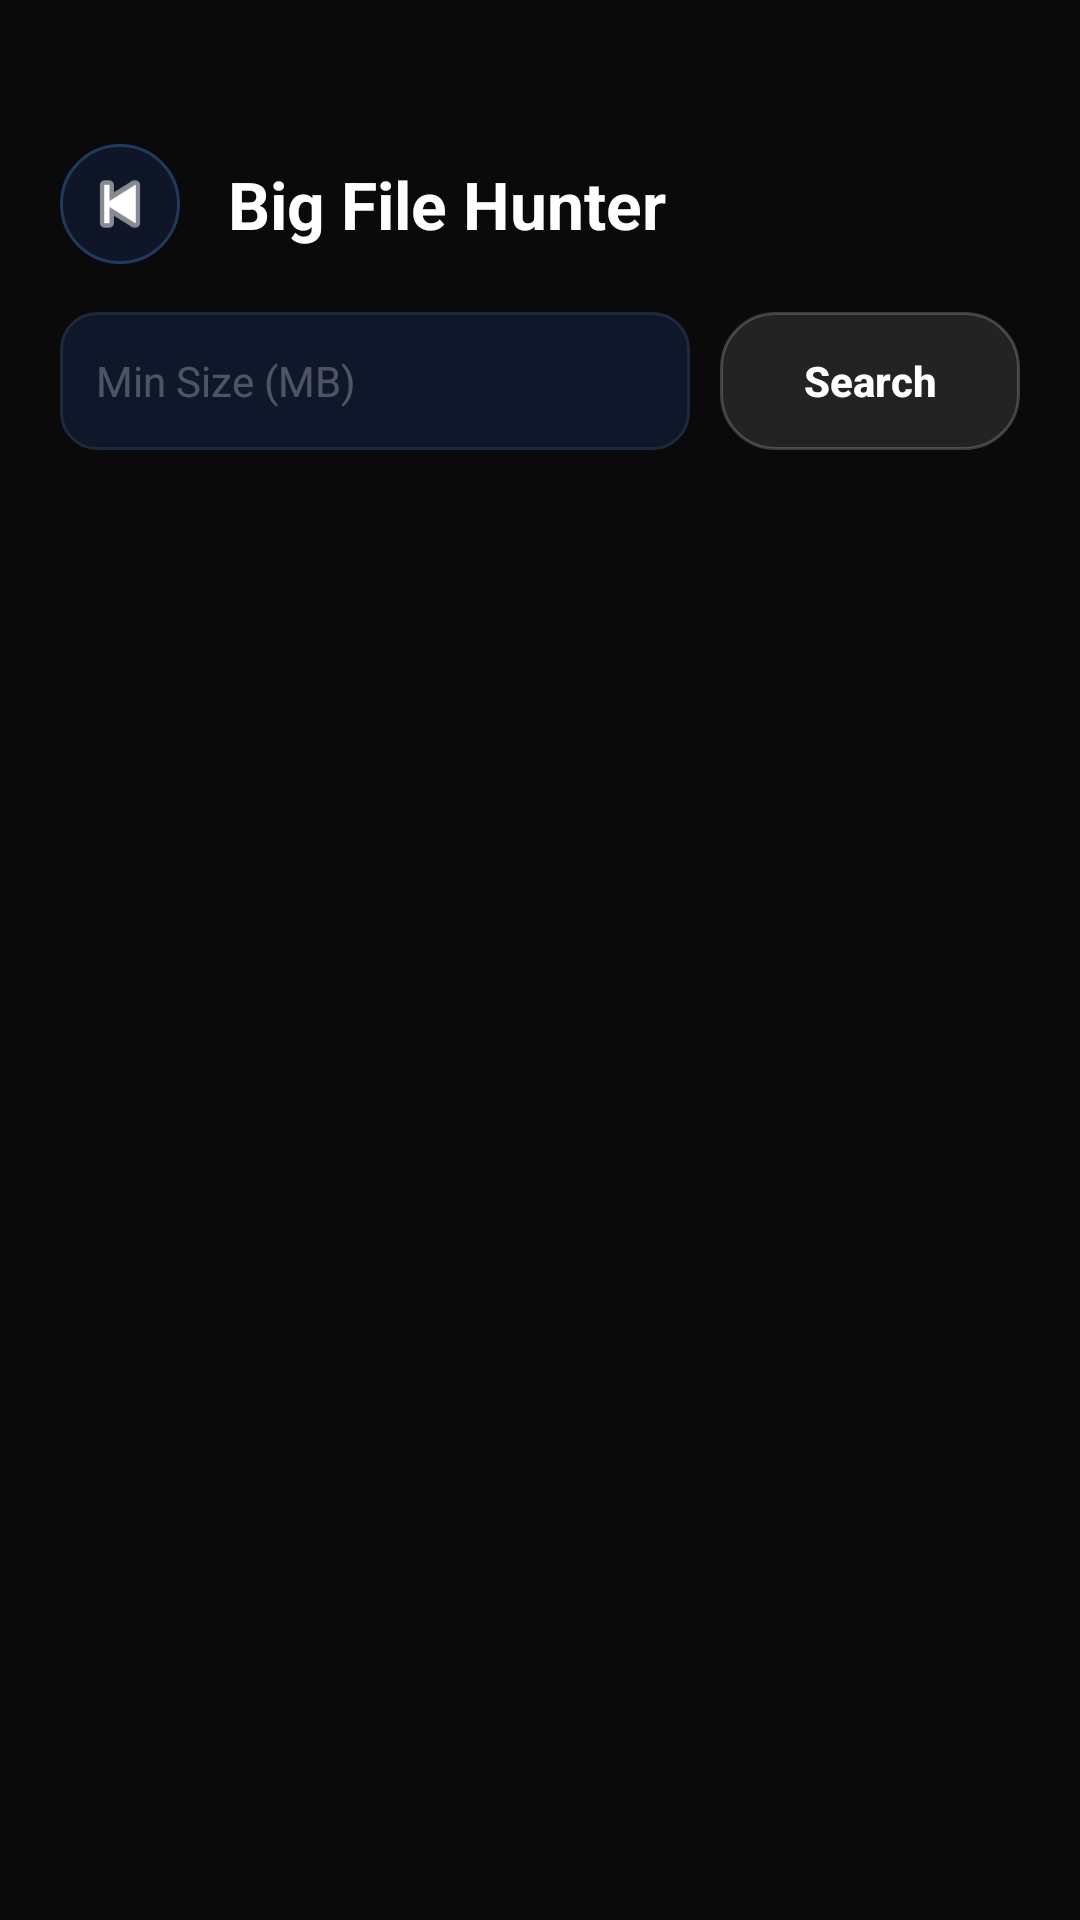

Icons on this 1080px×1920px Android screen, each with its box as (x1, y1, x2, y2):
previous: (60, 144, 180, 264)
